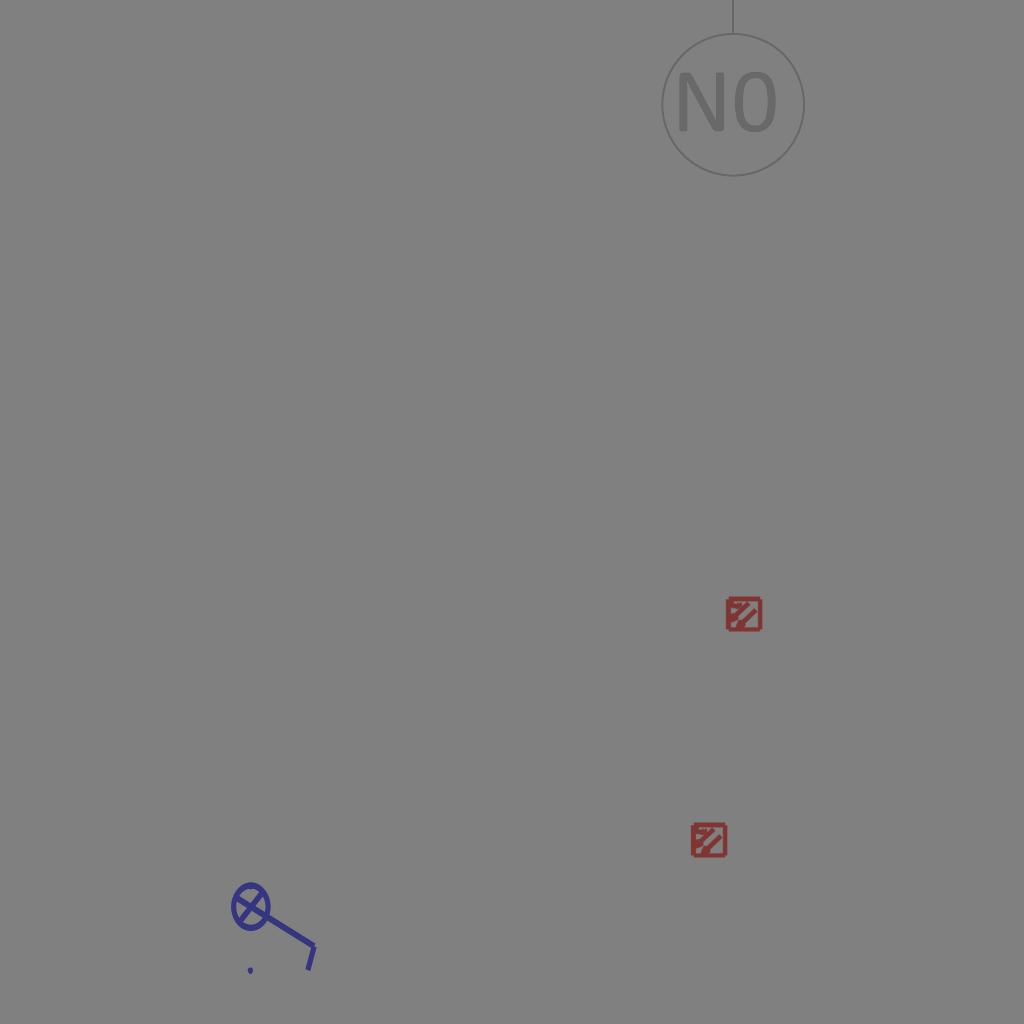Ausschalter_beleuchtet: (229, 868, 325, 980)
OT_Multisensormelder_(Kombination_RMO_WMD): (680, 812, 736, 868), (715, 586, 771, 642)
